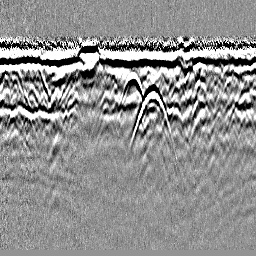cavity: (119, 68, 143, 104)
